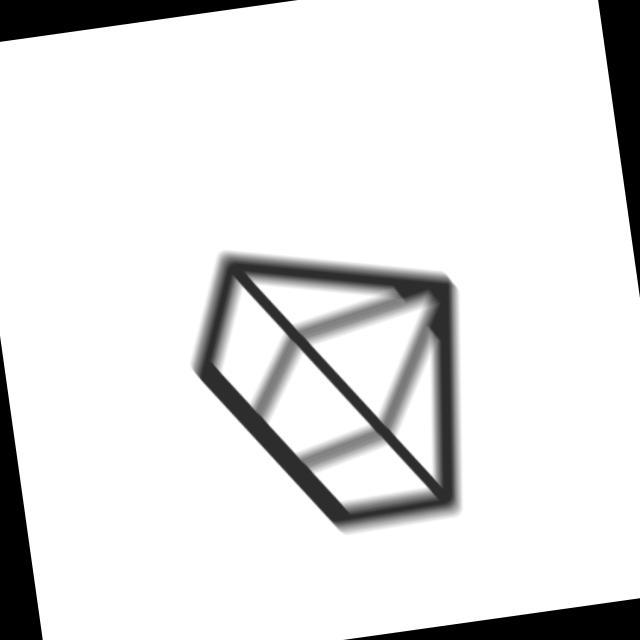diamond: (166, 210, 497, 561)
